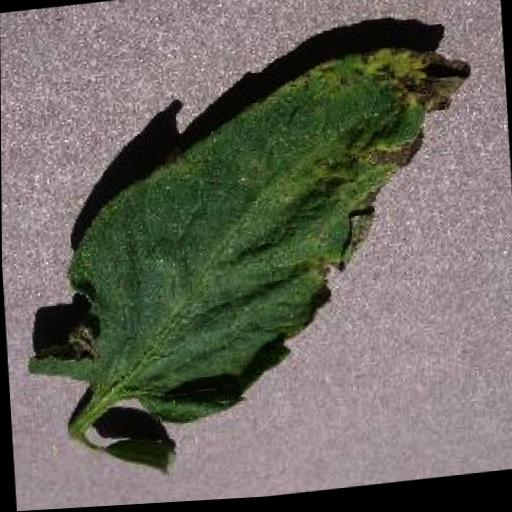Septoria: (14, 43, 491, 442)
